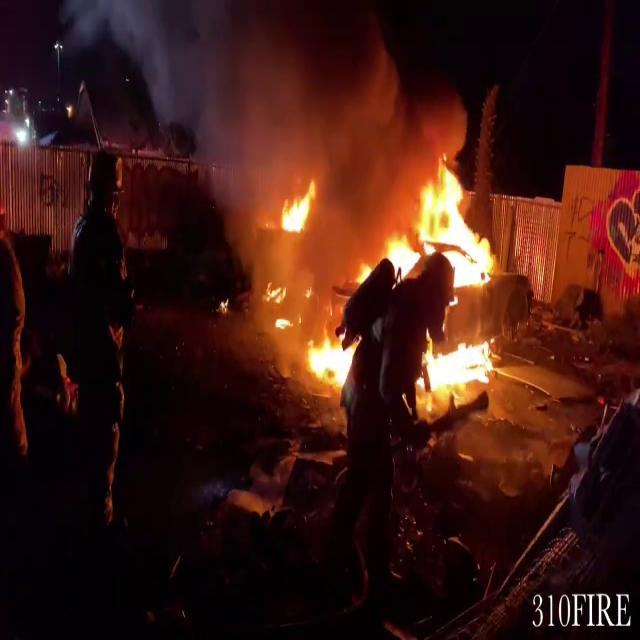Fire: (392, 162, 496, 294), (414, 328, 504, 410), (298, 318, 359, 392), (276, 174, 318, 243)
Smoke: (164, 0, 454, 207)
